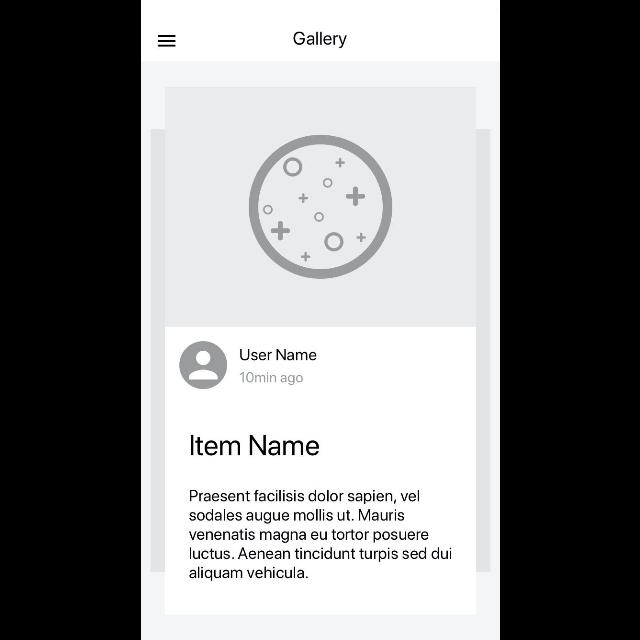icon: (178, 340, 228, 390), (157, 35, 175, 47)
image: (165, 87, 477, 327)
text: (188, 490, 450, 582), (190, 434, 320, 456), (240, 349, 316, 361), (239, 372, 303, 386), (293, 32, 347, 48)
